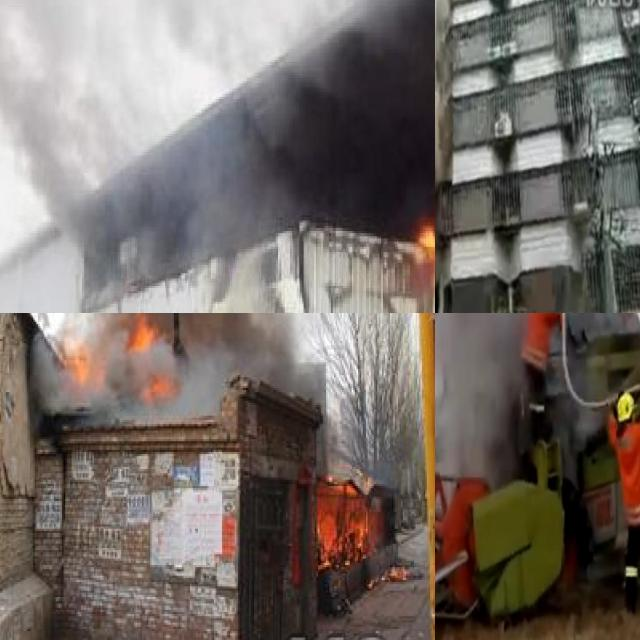fire: (49, 313, 174, 418), (315, 478, 374, 572)
smoke: (0, 0, 435, 247), (32, 313, 349, 414), (435, 313, 559, 483)
